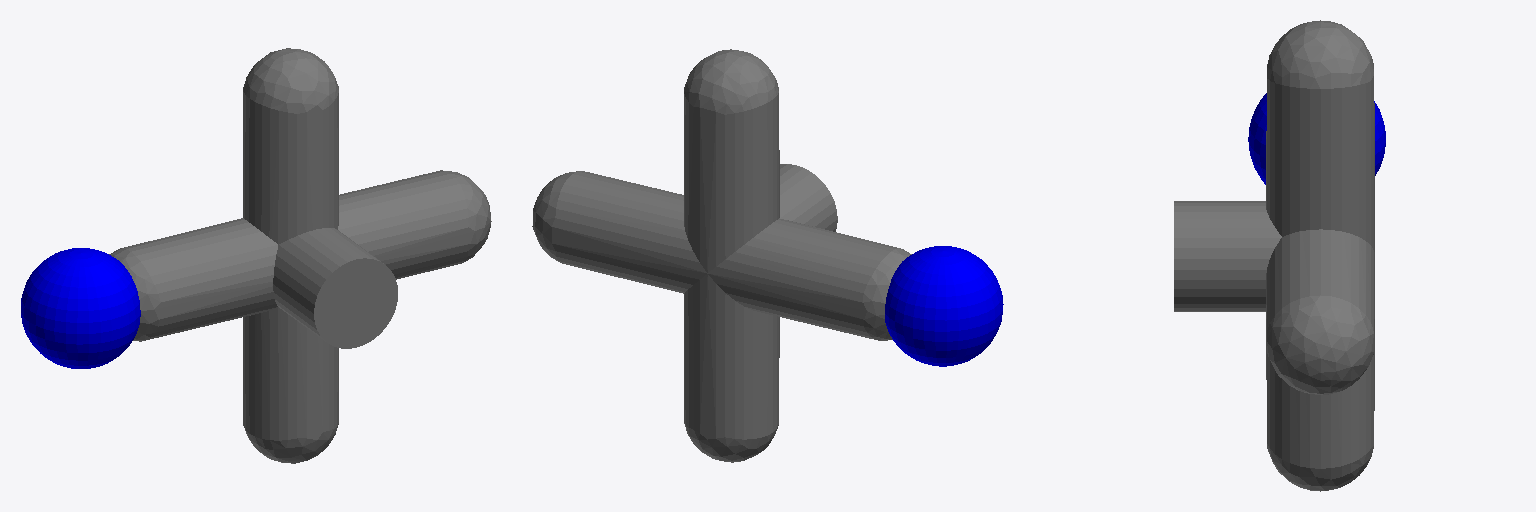
URDF robot description (valve.urdf):
<?xml version="1.0" ?>

<robot name="valve.urdf">
  <material name="Dark Grey">
    <color rgba=".3 .3 .3 1"/>
  </material>
  <material name="Light Grey">
    <color rgba=".5 .5 .5 1"/>
  </material>
  <material name="Blue">
    <color rgba="0 0 1 1"/>
  </material>

  <link name="base_link">
    <inertial>
      <mass value="0.01"/>
      <inertia ixx="0.001" ixy="0" ixz="0" iyy="0.001" iyz="0" izz="0.001"/>
    </inertial>
  </link>

  <link name="valve">
    <inertial>
      <mass value="0.01"/>
      <inertia ixx="0.001" ixy="0" ixz="0" iyy="0.001" iyz="0" izz="0.001"/>
    </inertial>
    <visual>
      <origin xyz="0 0 0" rpy="-1.57075 0 0"/>
      <geometry>
        <mesh filename="valve_4_high_poly.stl" scale="0.002 0.002 0.002"/>
      </geometry>
      <material name="Light Grey"/>
    </visual>

    <collision concave="yes">
      <origin xyz="0 0 0" rpy="-1.5705 0 0"/>
      <geometry>
        <mesh filename="valve_4_high_poly.stl" scale="0.002 0.002 0.002"/>
      </geometry>
    </collision>

  </link>

  <link name="handle">
    <inertial>
      <mass value="0.01"/>
      <inertia ixx="0.001" ixy="0" ixz="0" iyy="0.001" iyz="0" izz="0.001"/>
    </inertial>
    <visual>
      <origin xyz="-0.2 0.105 0" rpy="0 0 0"/>
      <geometry>
			  <sphere radius="0.05"/>
      </geometry>
      <material name="Blue"/>
    </visual>
    <collision>
      <origin xyz="-0.2 0.105 0" rpy="-0 0 0"/>
      <geometry>
			  <sphere radius="0.05"/>
      </geometry>
    </collision>
  </link>

  <joint name="swivel" type="continuous">
      <parent link="base_link"/>
      <child link="valve"/>
      <dynamics damping="0.0" friction="1.0"/>
      <origin xyz="0 0 0" rpy="0 0 0"/>
      <axis xyz="0 1 0"/>
  </joint>

  <joint name="valve_handle" type="fixed">
      <parent link="valve"/>
      <child link="handle"/>
      <origin xyz="0 0 0" rpy="0 0 0"/>
  </joint>
</robot>

--- Facts derived from the render (not from the file) ---
3 views of the same robot in one strip: view 1: azimuth 30°, elevation 25°; view 2: azimuth 150°, elevation 25°; view 3: azimuth 270°, elevation 25° (orthographic).
Model valve.urdf with 3 links and 2 joints (1 continuous, 1 fixed), rooted at base_link, posed all joints at 0.
Visible links, largest first — view 1: valve, handle; view 2: valve, handle; view 3: valve, handle.
Boxes of the visible links, x1,y1,x2,y2 form: valve: (109,48,491,463); handle: (21,248,140,368); valve: (532,49,911,462); handle: (885,246,1003,366); valve: (1174,20,1374,491); handle: (1248,93,1385,184).
Bounding box of the posed robot: 0.434 × 0.154 × 0.368 m (x, y, z).
1 mesh visuals loaded from 1 distinct referenced files (1 binary STL).
